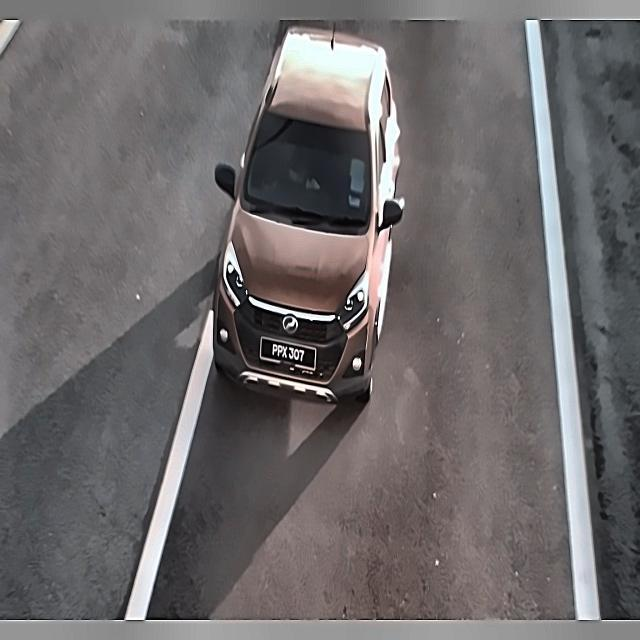car: (257, 328, 323, 376)
